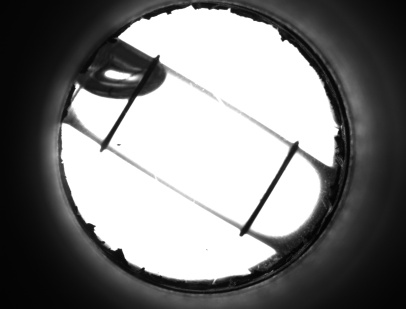line: (244, 163, 291, 219), (103, 105, 134, 136)
